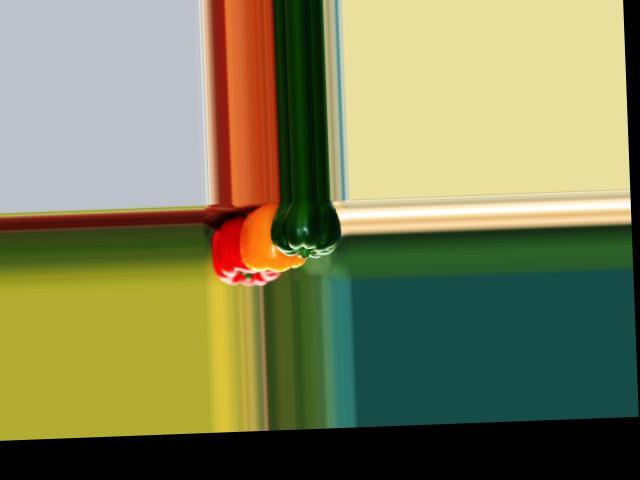bell_pepper: (211, 205, 281, 286)
